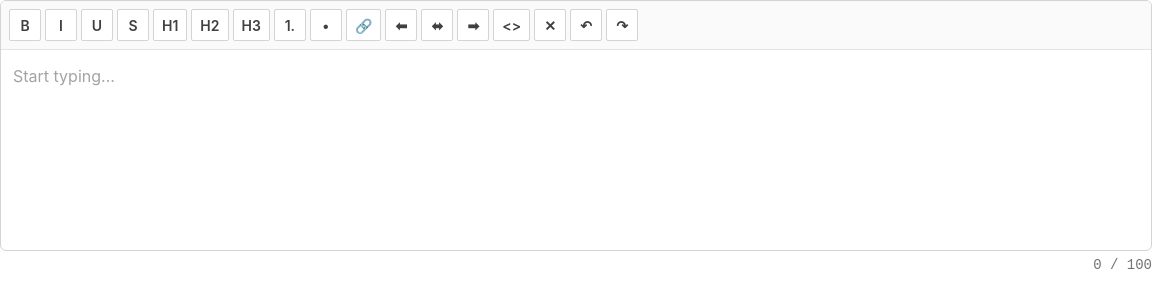
Test: RichTextEditor › Character Count › updates character count on input
The width and height of the screenshot is (1164, 293).
Clear the field at (576, 150), box [1,50,1151,250]
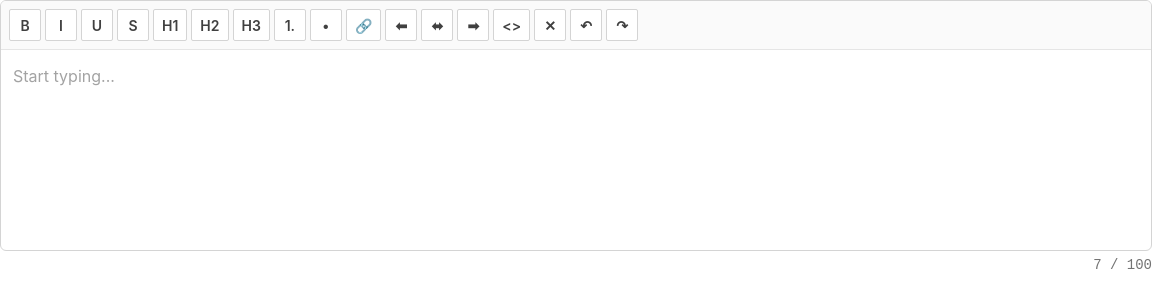
Now the text "7 / 100" is shown, box [1093,255,1152,276]
